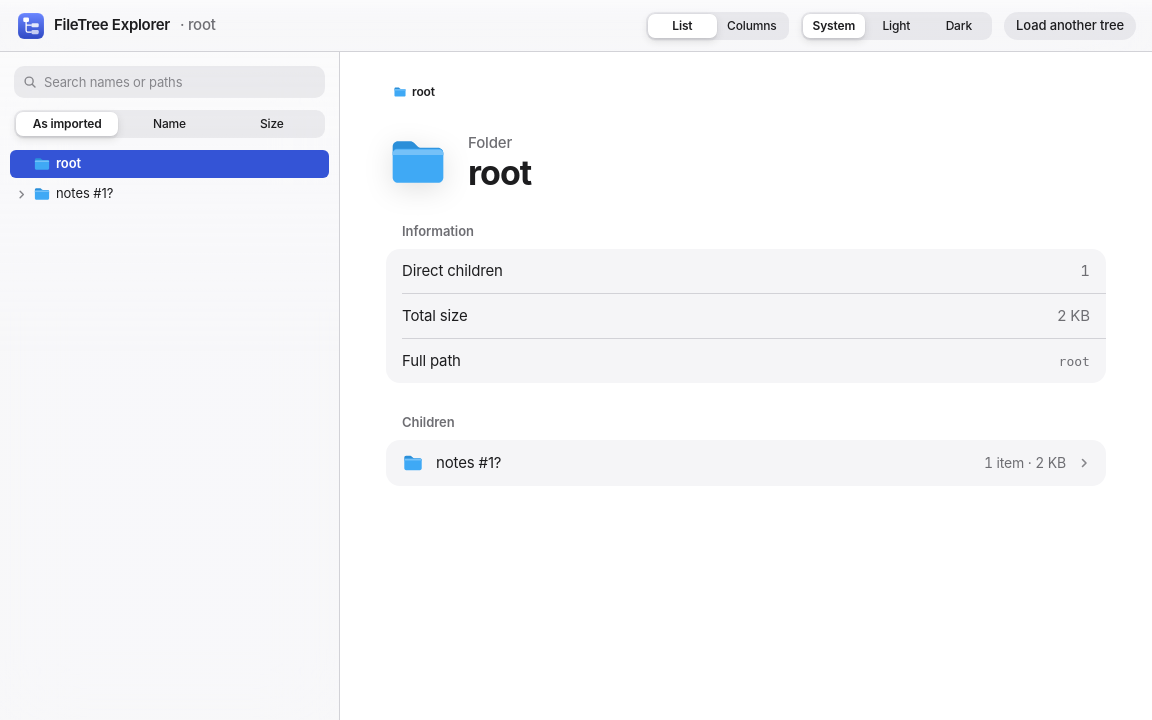
Test case: node details › round-trips node names with characters that are special in URLs
What coordinates should you click on to do the following:
click the 1st link "notes #1?"
I would click on:
 (85, 193)
Its box is [56,185,113,201].
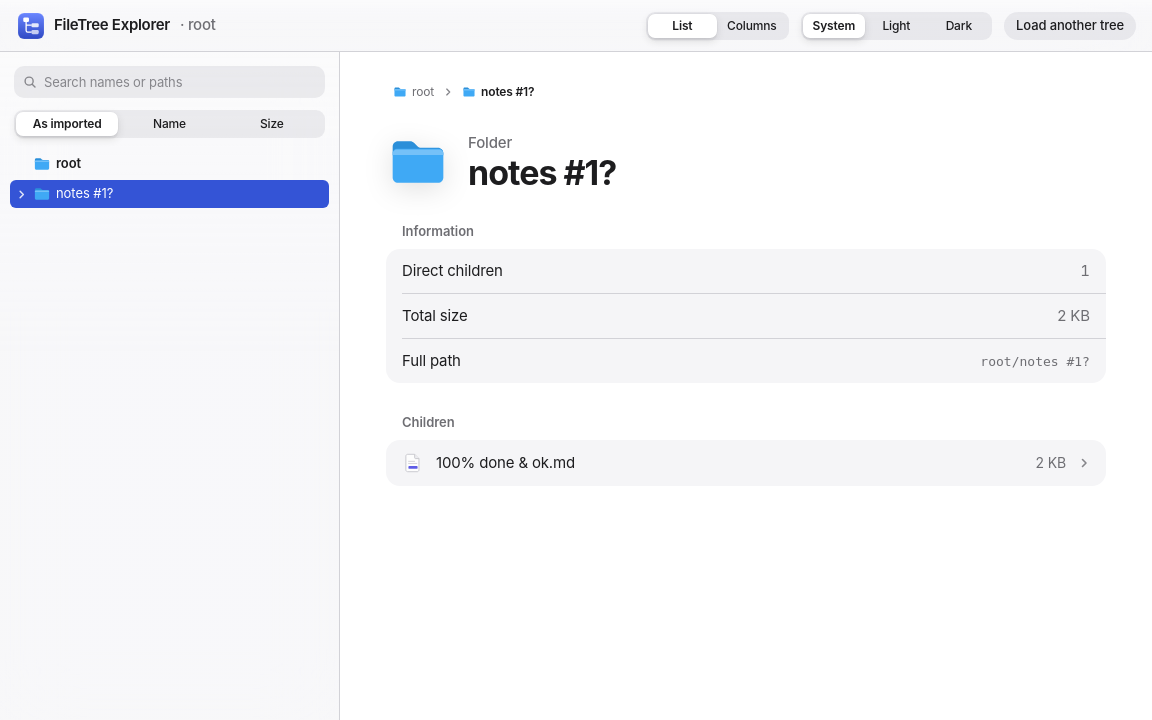
What coordinates should you click on to do the following:
click the link "100% done & ok.md"
I would click on:
 (506, 462)
Its box is [436,453,575,472].
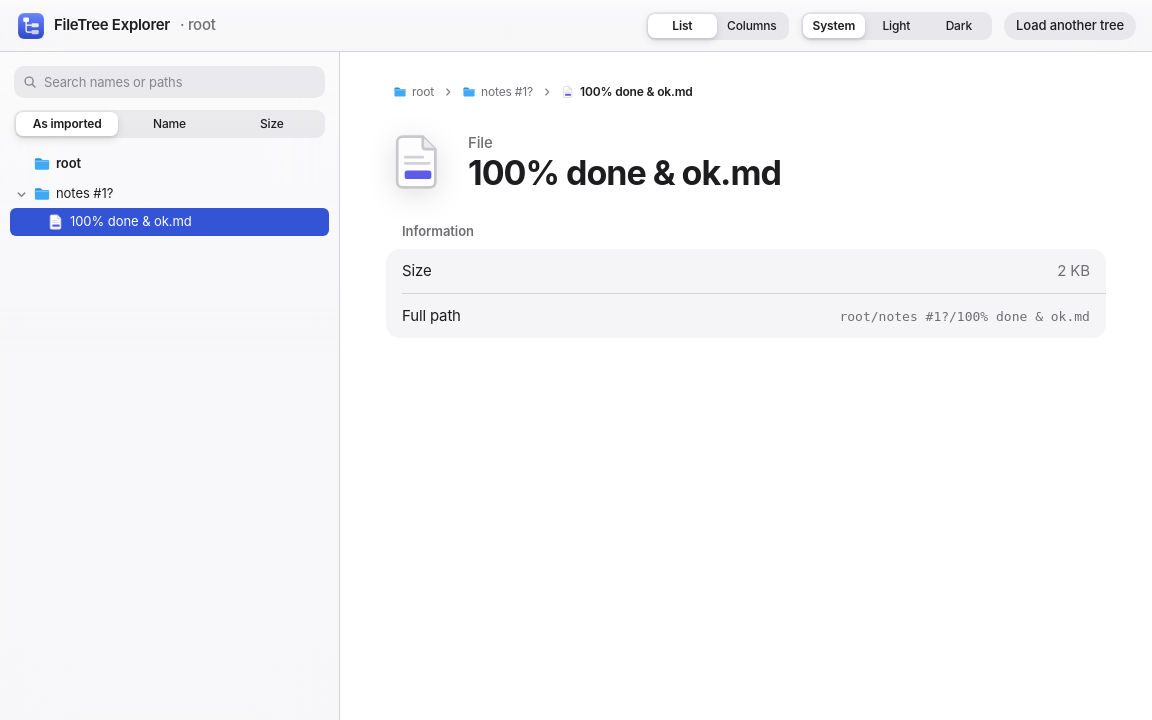
Expected: the text "2 KB" is shown, [1057,260,1090,282]
Expected: the text "root/notes #1?/100% done & ok.md" is shown, [840,307,1090,326]
